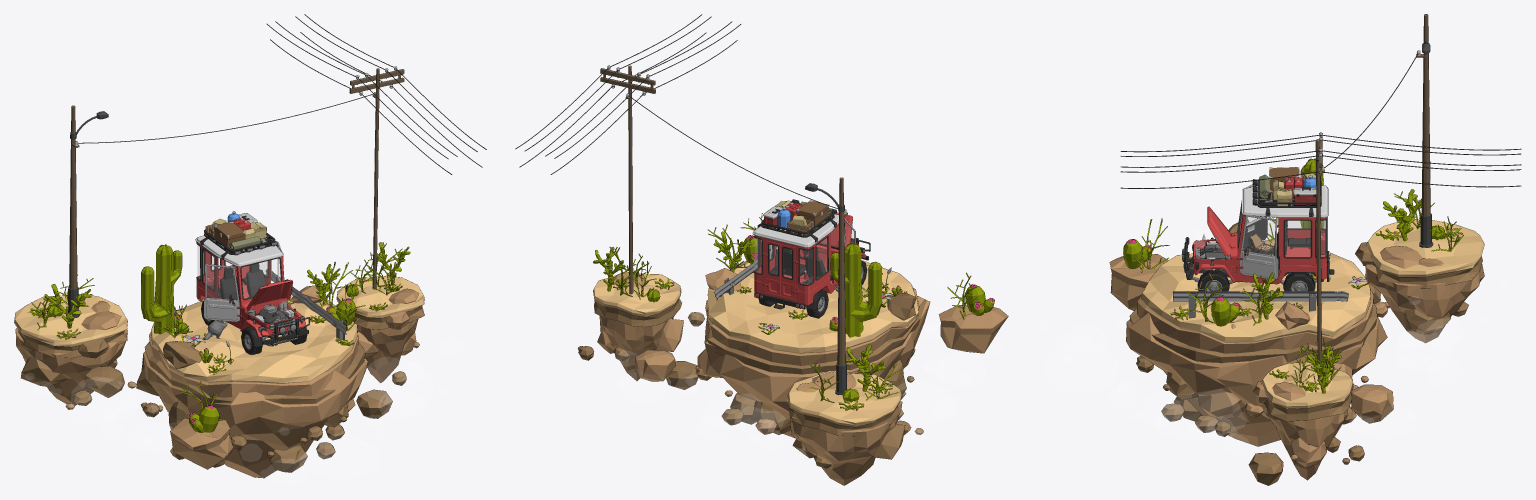
Rendered from desert_road.glb.
3 renders of one model, left to right at view 1: azimuth 30°, elevation 25°; view 2: azimuth 150°, elevation 25°; view 3: azimuth 270°, elevation 25°, orthographic. The views are drawn at different scales.
Parts seen in each view (by area): view 1: terrain, body, terrain001outline, sky, glass, body001outline; view 2: terrain, body, terrain001outline, sky, glass, body001outline; view 3: terrain, body, terrain001outline, sky, body001outline, glass.
Boxes of the visible parts, x1,y1,x2,y2 form: terrain: (14,14,486,477); body: (195,211,309,354); terrain001outline: (14,14,486,478); sky: (54,300,425,479); glass: (197,245,280,299); body001outline: (195,211,310,354); terrain: (516,15,1008,485); body: (752,199,870,318); terrain001outline: (515,14,1008,485); sky: (618,296,985,441); glass: (755,223,853,284); body001outline: (753,199,870,317); terrain: (1110,14,1520,485); body: (1182,167,1333,291); terrain001outline: (1109,14,1521,485); sky: (1046,229,1462,439); body001outline: (1182,167,1334,290); glass: (1239,209,1326,256).
Size of the model in its own units: 13.24 by 12.19 by 13.79.
6 materials, 2 textured.
